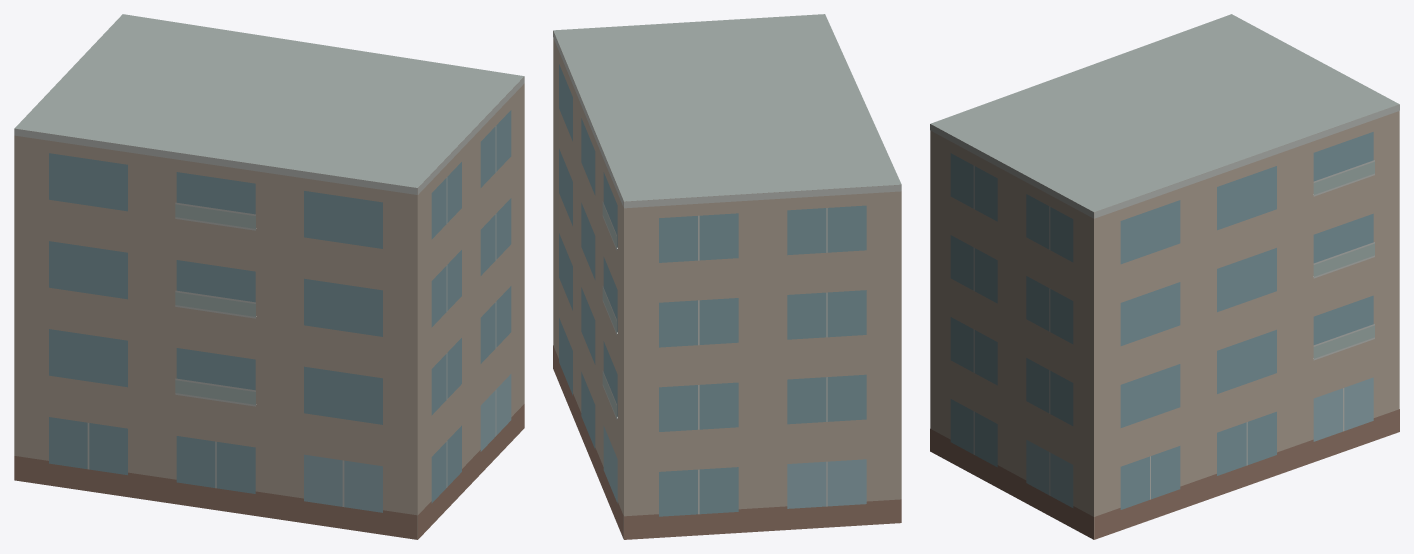
The model's file is survey-upis-32821989.glb.
3 renders of one model, left to right at view 1: azimuth 30°, elevation 25°; view 2: azimuth 150°, elevation 25°; view 3: azimuth 270°, elevation 25°, orthographic. The views are drawn at different scales.
Parts seen in each view (by area): view 1: survey-upis-32821989.tmp; view 2: survey-upis-32821989.tmp; view 3: survey-upis-32821989.tmp.
Part boxes in pixels (x1=…): survey-upis-32821989.tmp: x1=14, y1=14, x2=524, y2=539; survey-upis-32821989.tmp: x1=553, y1=14, x2=901, y2=539; survey-upis-32821989.tmp: x1=930, y1=14, x2=1399, y2=539.
Bounding box in the file's own units: 15.84 × 12.2 × 15.86.
